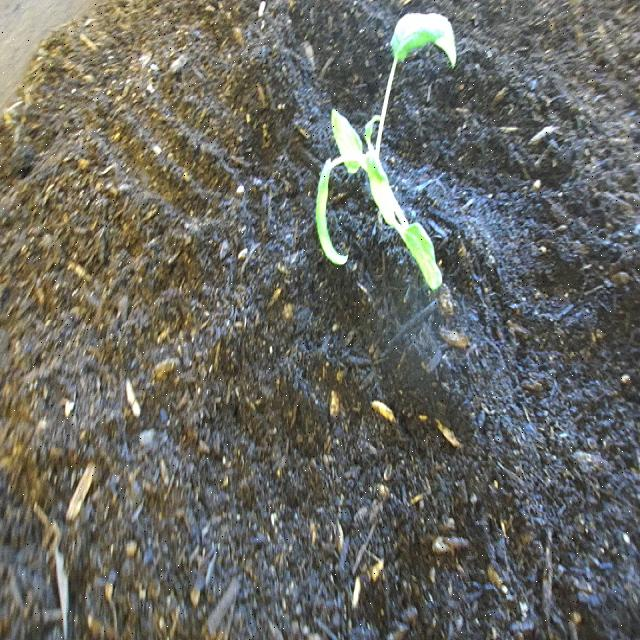Healthy: (313, 5, 460, 301)
